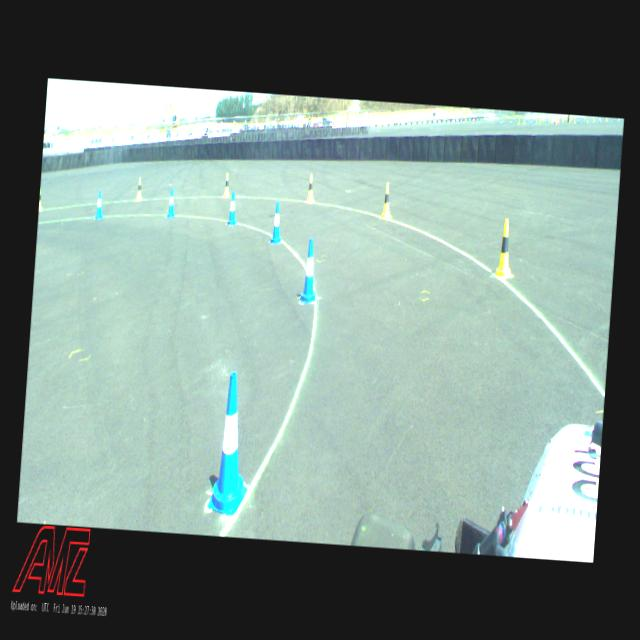blue_cone: (206, 370, 255, 516), (300, 238, 319, 302), (270, 201, 282, 243), (227, 190, 237, 224), (167, 188, 176, 217), (95, 191, 104, 218)
yellow_cone: (496, 218, 514, 277), (380, 182, 392, 218), (306, 174, 315, 202), (222, 172, 230, 197), (136, 177, 144, 200), (38, 187, 44, 210)
